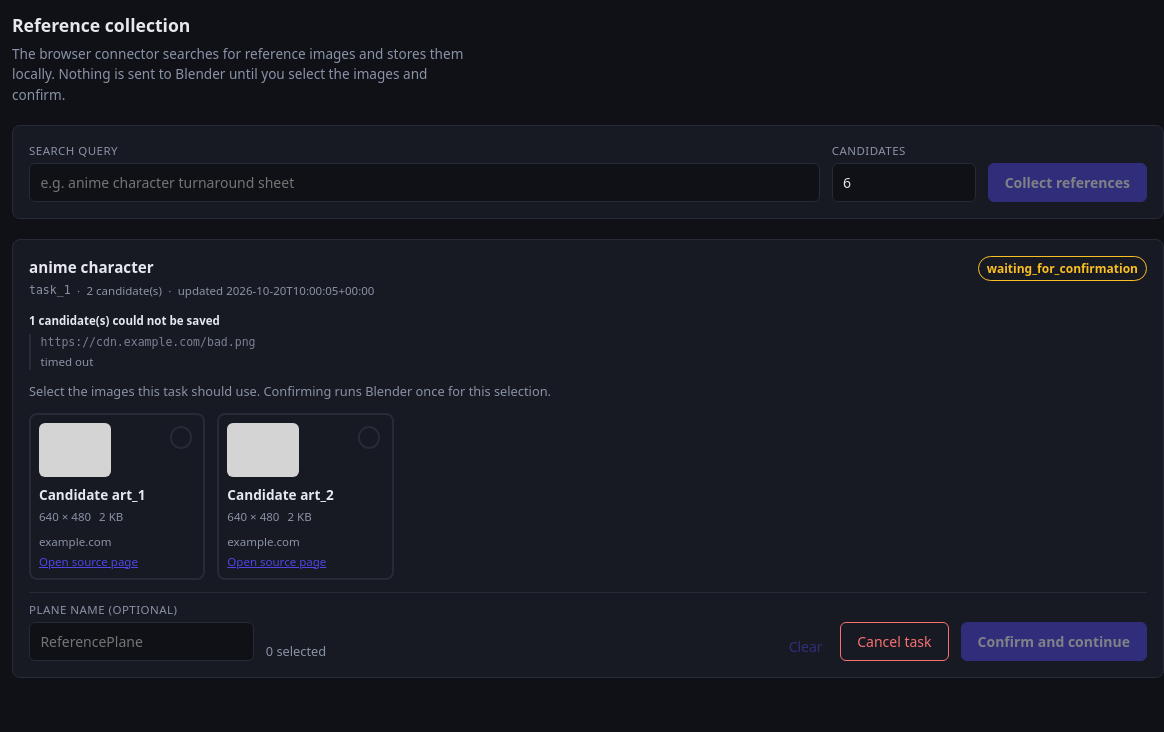
Test case: ReferencesView › cancels a waiting task through the runtime
Click the button with test id "cancel": (894, 642) [840,622,948,661]
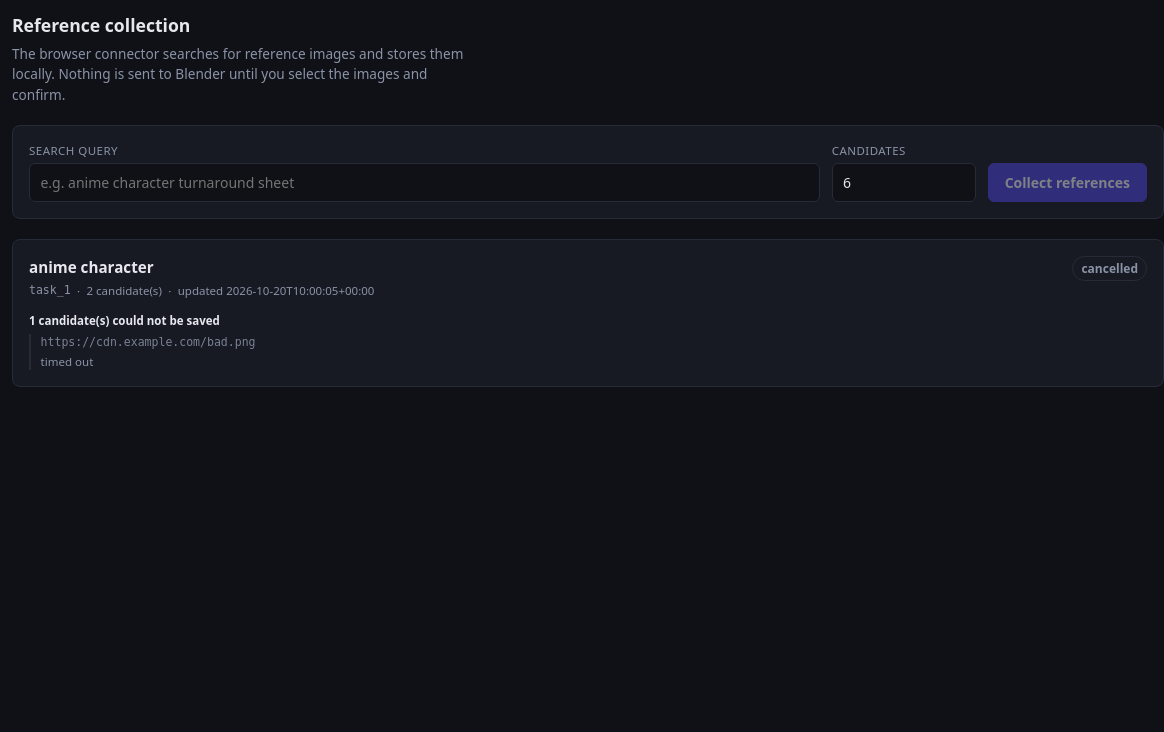
Expected: the text "cancelled" is shown, [1072,256,1147,281]
